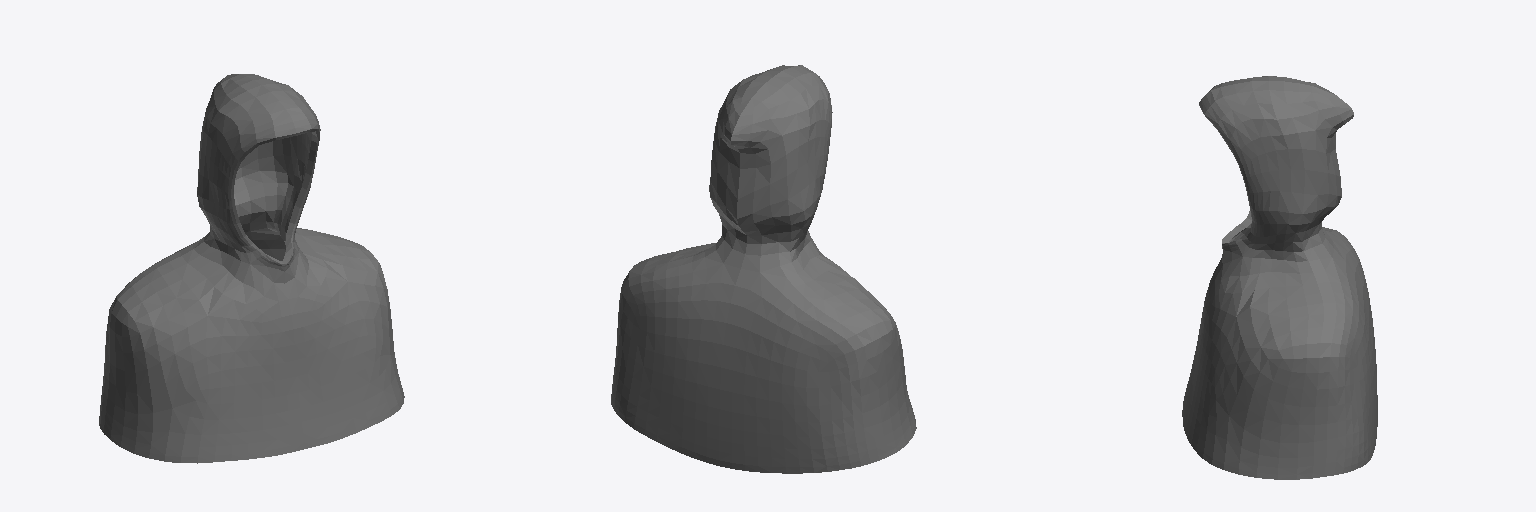
The model's file is LowPoly_Morte_CapaCima.obj.
3 views of the same model, side by side, from view 1: azimuth 30°, elevation 25°; view 2: azimuth 150°, elevation 25°; view 3: azimuth 270°, elevation 25° (orthographic).
Visible parts, largest first — view 1: LowPoly_Morte_CapaCima; view 2: LowPoly_Morte_CapaCima; view 3: LowPoly_Morte_CapaCima.
Part boxes in pixels (left/top/right/bottom): LowPoly_Morte_CapaCima: left=99, top=74, right=404, bottom=463; LowPoly_Morte_CapaCima: left=611, top=65, right=916, bottom=473; LowPoly_Morte_CapaCima: left=1182, top=76, right=1377, bottom=479.
Size of the model in its own units: 45.18 by 54.97 by 27.77.